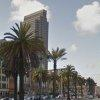Palm tree: (8, 15, 38, 97)
